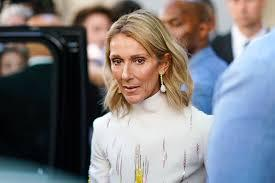person: (103, 5, 174, 110)
